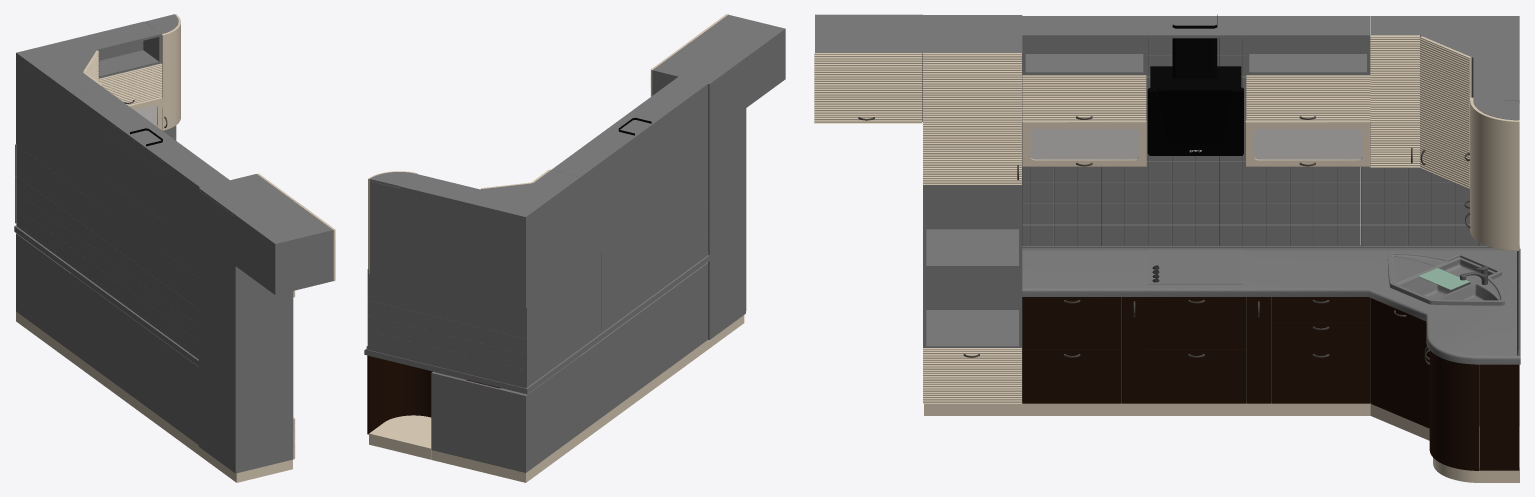
The picture shows the model from 3 angles, left to right: view 1: azimuth 30°, elevation 25°; view 2: azimuth 150°, elevation 25°; view 3: azimuth 270°, elevation 25°; orthographic projection. The views are drawn at different scales.
Visible parts, largest first — view 1: 36:2:007, Box2468, 44:1:007, 35:7:007, 55:2:007, 37:6:007, 38:6:007, 40:8:007, кухня, 49:1:007, 42:3:007, Circle005 (+15 smaller); view 2: Box2468, 36:2:007, Box2469, 35:7:007, 44:1:007, 55:2:007, 37:6:007, 38:6:007, 40:8:007, 58:3:007, 49:1:007, Circle006 (+19 smaller); view 3: кухня, Box2468, Line13815, 36:2:007, 36:1:007, Circle005, 40:1:023, 42:3:007, 40:1:027, 40:1:031, 40:1:028, Circle006 (+29 smaller).
Part boxes in pixels (<box>): 36:2:007: <box>198,174,333,471</box>; Box2468: <box>16,124,198,355</box>; 44:1:007: <box>16,37,96,170</box>; 35:7:007: <box>16,233,71,351</box>; 55:2:007: <box>80,21,161,78</box>; 37:6:007: <box>71,274,108,376</box>; 38:6:007: <box>117,308,154,409</box>; 40:8:007: <box>163,341,198,442</box>; кухня: <box>83,50,335,459</box>; 49:1:007: <box>117,119,229,188</box>; 42:3:007: <box>46,333,292,482</box>; Circle005: <box>161,14,180,130</box>; Box2468: <box>526,113,707,383</box>; 36:2:007: <box>652,14,785,337</box>; Box2469: <box>367,269,527,385</box>; 35:7:007: <box>431,356,580,472</box>; 44:1:007: <box>463,183,562,312</box>; 55:2:007: <box>399,174,479,296</box>; 37:6:007: <box>580,329,616,430</box>; 38:6:007: <box>626,296,662,397</box>; 40:8:007: <box>671,263,707,363</box>; 58:3:007: <box>370,181,399,278</box>; 49:1:007: <box>597,76,707,145</box>; Circle006: <box>384,359,430,422</box>; кухня: <box>814,35,1473,403</box>; Box2468: <box>1022,38,1486,245</box>; Line13815: <box>1022,248,1520,364</box>; 36:2:007: <box>815,14,1022,398</box>; 36:1:007: <box>926,229,1018,347</box>; Circle005: <box>1470,100,1519,250</box>; 40:1:023: <box>1371,298,1429,428</box>; 42:3:007: <box>924,402,1370,415</box>; 40:1:027: <box>1271,349,1370,403</box>; 40:1:031: <box>1022,349,1121,403</box>; 40:1:028: <box>1146,349,1245,403</box>; Circle006: <box>1429,350,1479,470</box>.
Size of the model in its own units: 1549 by 2434 by 4259.
